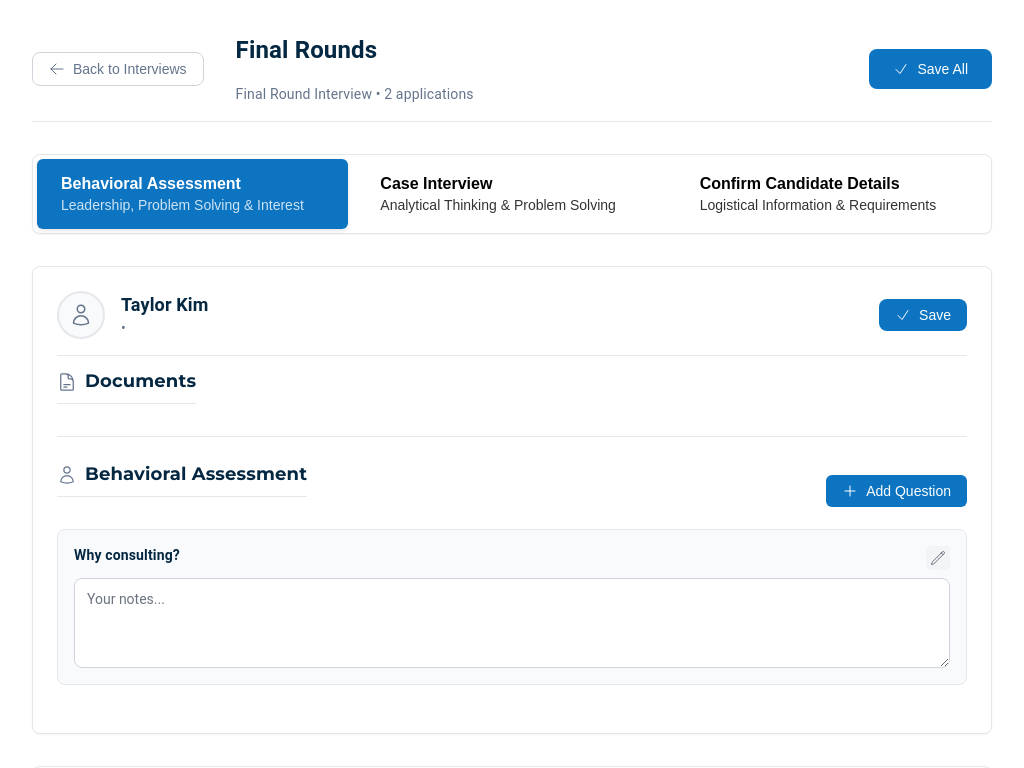
final round decision prompt › asks for each undecided candidate after Save All, and saves only what was picked
Click the button "Save All".
click(931, 68)  # box [869,48,992,88]
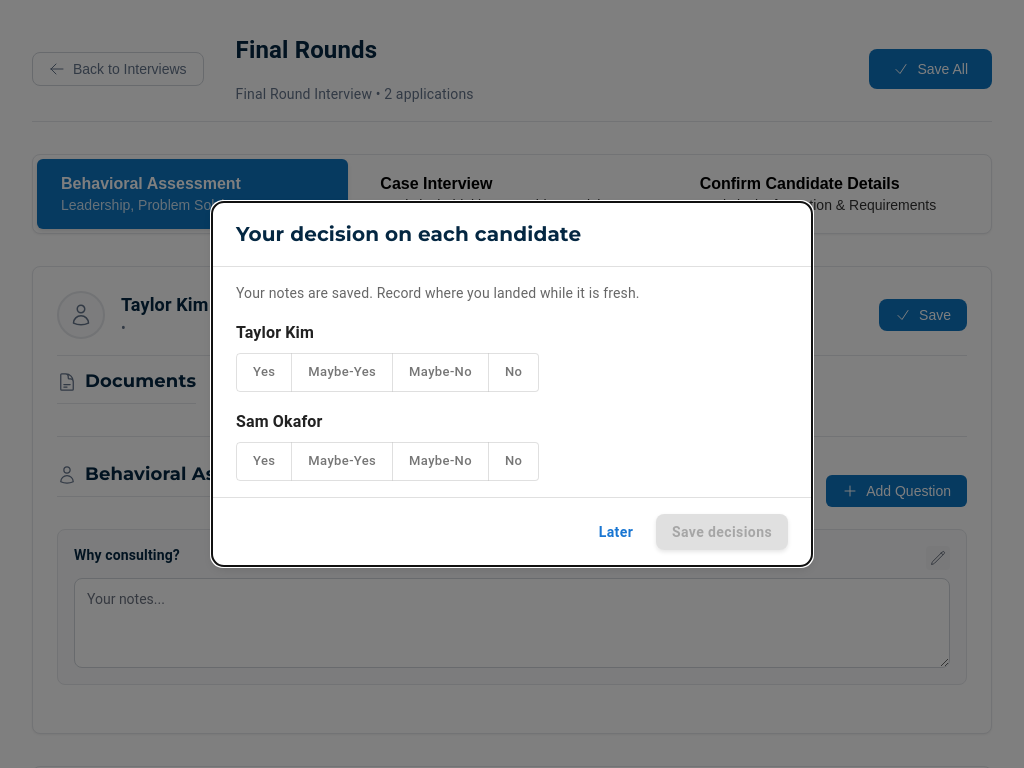
Click the 1st button "Yes".
click(264, 372)  # box [236,353,292,392]
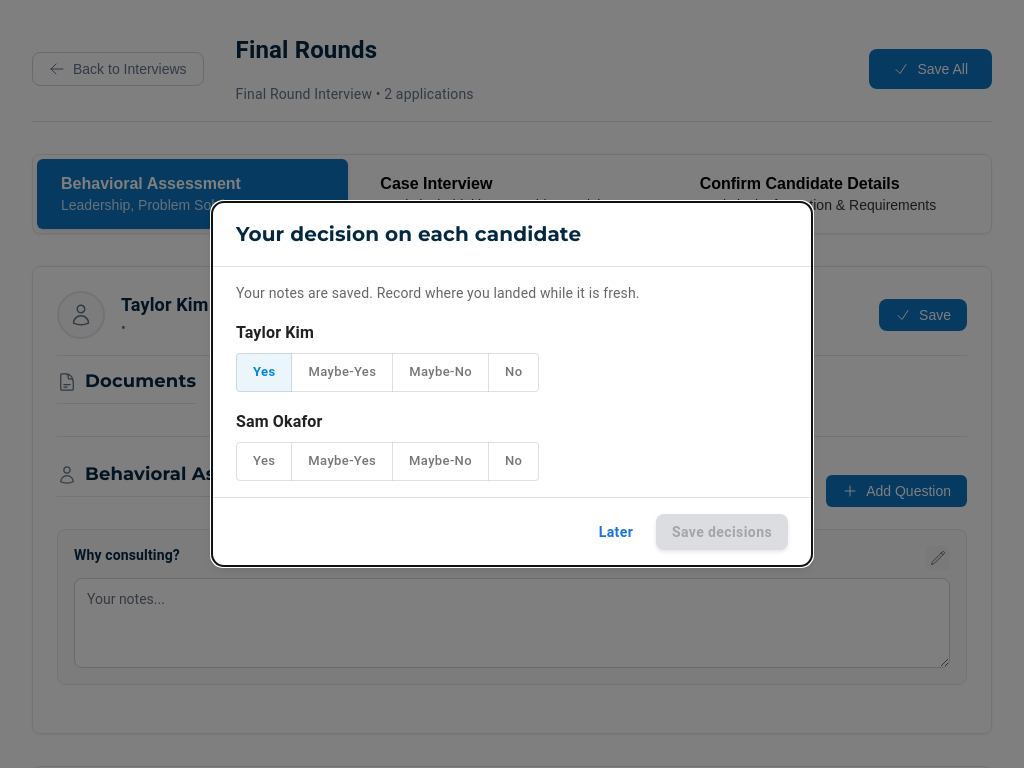
Click the button "Save decisions".
click(722, 532)  # box [656,514,788,550]
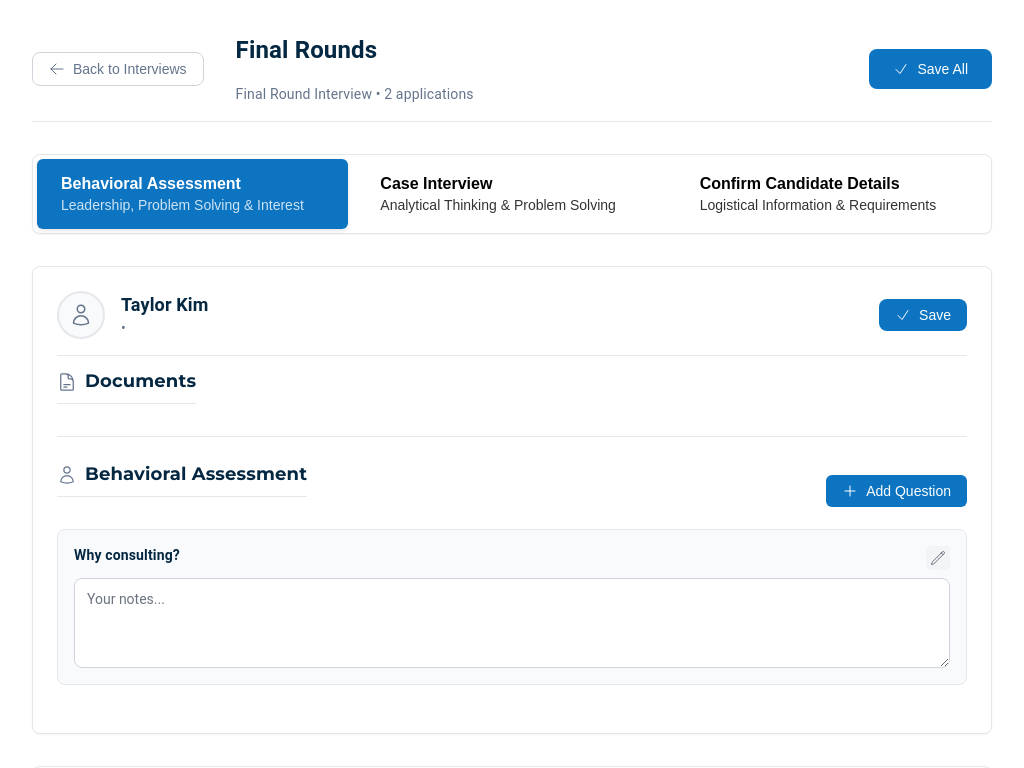
Now the dialog is gone
